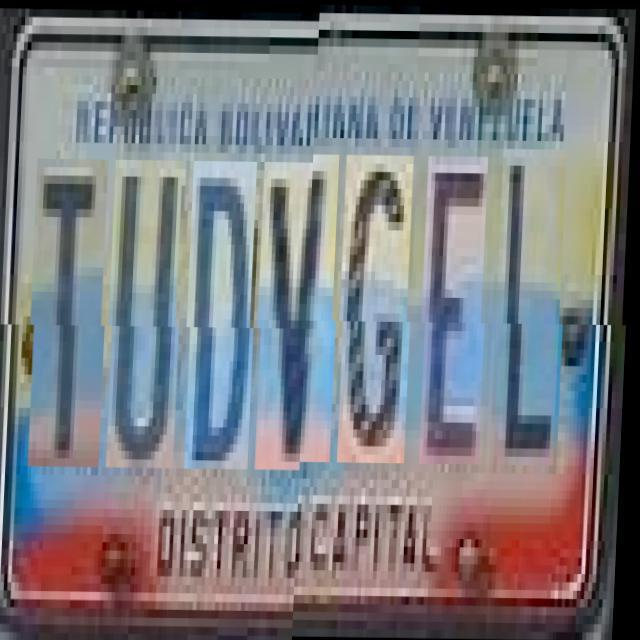D: (188, 160, 262, 468)
E: (423, 163, 493, 471)
G: (341, 162, 418, 470)
L: (497, 156, 572, 472)
T: (32, 158, 113, 466)
U: (110, 160, 188, 468)
V: (259, 161, 344, 469)
